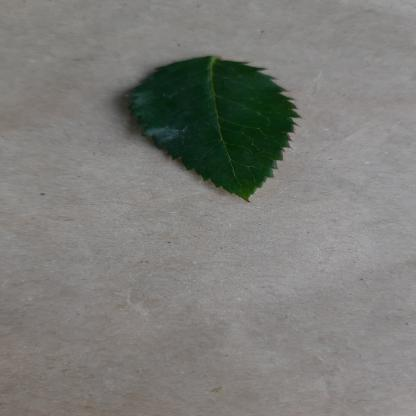normal: (118, 54, 326, 202)
